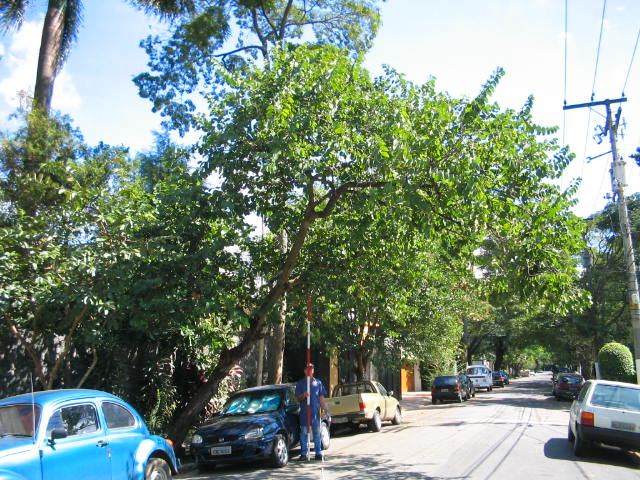crown: (169, 40, 590, 330)
stem: (169, 284, 298, 461)
stick: (302, 294, 315, 463)
tree: (166, 38, 594, 467)
